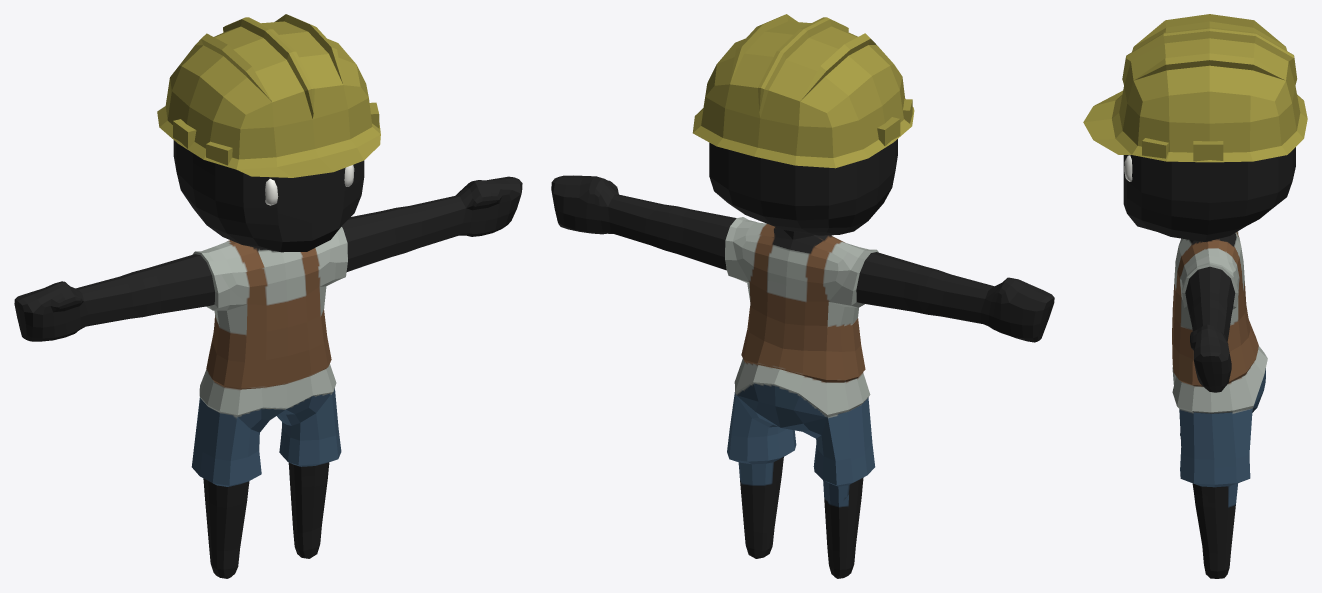
The model's file is Worker_Male.fbx.
3 views of the same model, side by side, from view 1: azimuth 30°, elevation 25°; view 2: azimuth 150°, elevation 25°; view 3: azimuth 270°, elevation 25° (orthographic).
Parts seen in each view (by area): view 1: Body; view 2: Body; view 3: Body.
Part boxes in pixels (left/top/right/bottom): Body: left=14, top=14, right=522, bottom=578; Body: left=551, top=14, right=1054, bottom=578; Body: left=1083, top=14, right=1307, bottom=578.
Size of the model in its own units: 324 by 334 by 128.
Materials: 1 (1 with a texture image).
